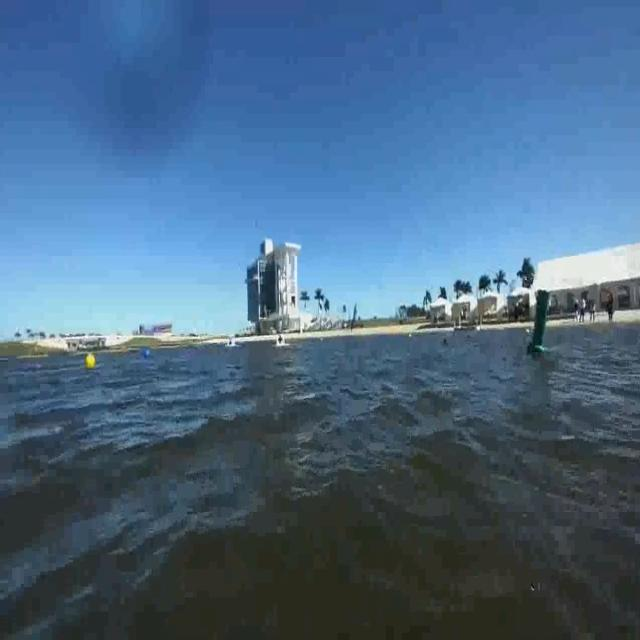blue-buoy: (144, 348, 152, 360)
green-column-buoy: (527, 287, 552, 355)
yellow-buoy: (84, 352, 96, 371)
